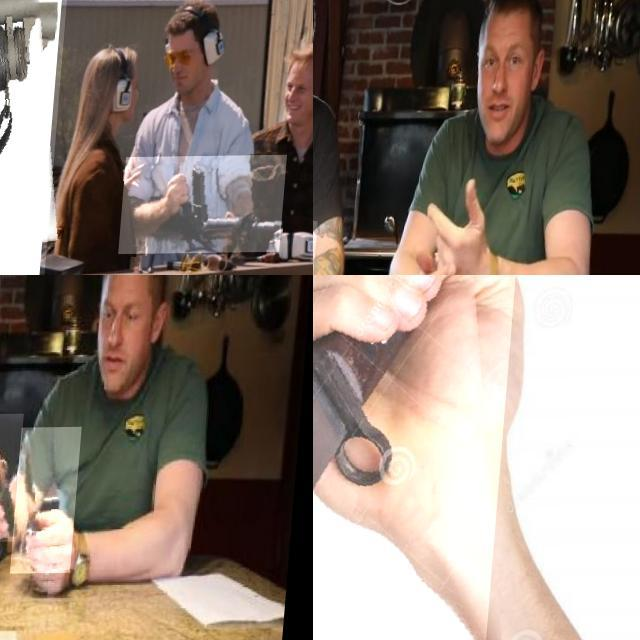-: (313, 275, 528, 640), (18, 428, 87, 575), (0, 414, 32, 543), (313, 221, 362, 275)
gun-knife-thesis - v11 Yolov5 augmented: (0, 0, 162, 275), (123, 157, 290, 256)
